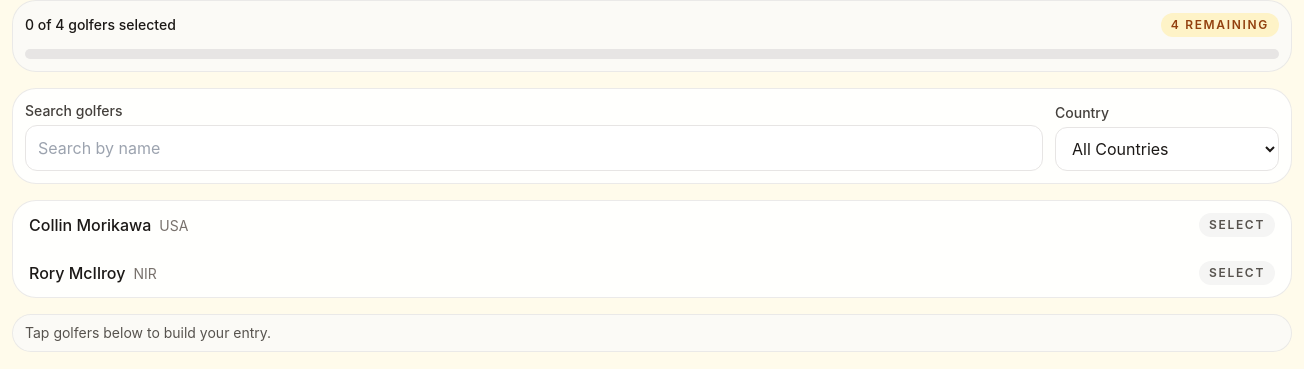
GolferPicker tournament roster contract › renders and filters the roster golfers passed through props
The image size is (1304, 369).
Check: the text "Collin Morikawa" is shown, box [29,215,151,235]
Check: the text "Rory McIlroy" is shown, box [29,263,125,283]
Type "Rory" into the field labelled "Search golfers" at (534, 148), box [25,125,1043,171]
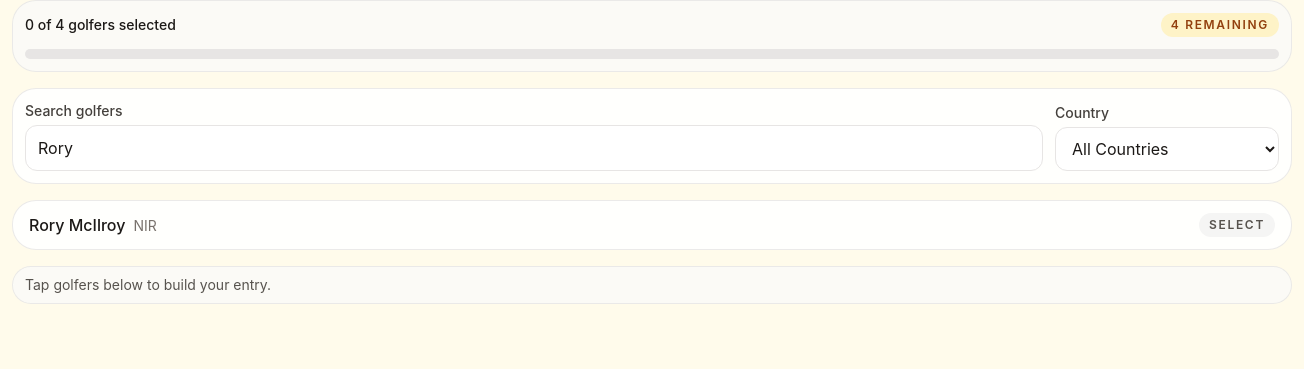
Check: the text "Rory McIlroy" is shown, box [29,215,125,235]
Check: the option "Collin Morikawa" is gone
